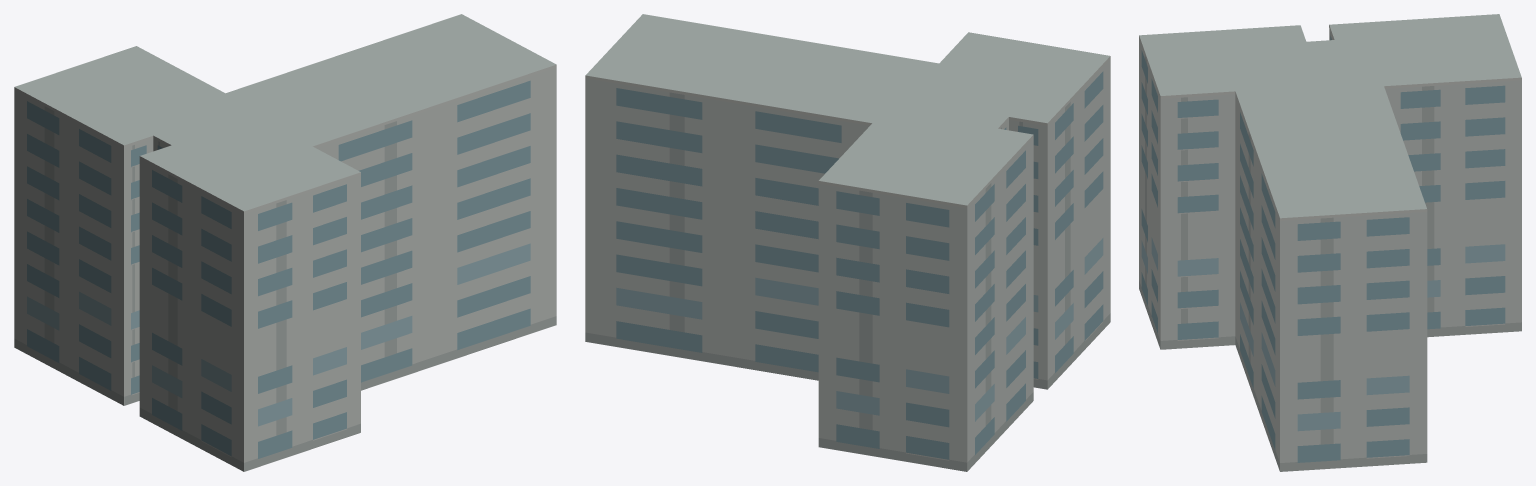
Rendered from residential-cd2af738-3543-49f8-971e-9995051cd58f.glb.
3 renders of one model, left to right at view 1: azimuth 30°, elevation 25°; view 2: azimuth 150°, elevation 25°; view 3: azimuth 270°, elevation 25°, orthographic. The views are drawn at different scales.
Visible parts, largest first — view 1: residential-cd2af738-3543-49f8-971e-9995051cd58f.tmp; view 2: residential-cd2af738-3543-49f8-971e-9995051cd58f.tmp; view 3: residential-cd2af738-3543-49f8-971e-9995051cd58f.tmp.
Part boxes in pixels (x1=…): residential-cd2af738-3543-49f8-971e-9995051cd58f.tmp: x1=14, y1=14, x2=556, y2=471; residential-cd2af738-3543-49f8-971e-9995051cd58f.tmp: x1=585, y1=14, x2=1110, y2=471; residential-cd2af738-3543-49f8-971e-9995051cd58f.tmp: x1=1139, y1=14, x2=1521, y2=471.
Bounding box in the file's own units: 38 × 22 × 30.09.
